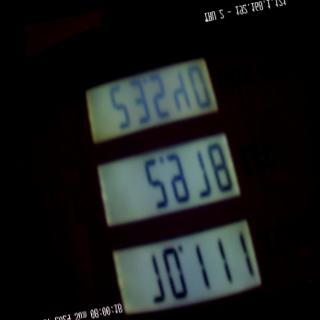screen: (63, 14, 273, 320)
